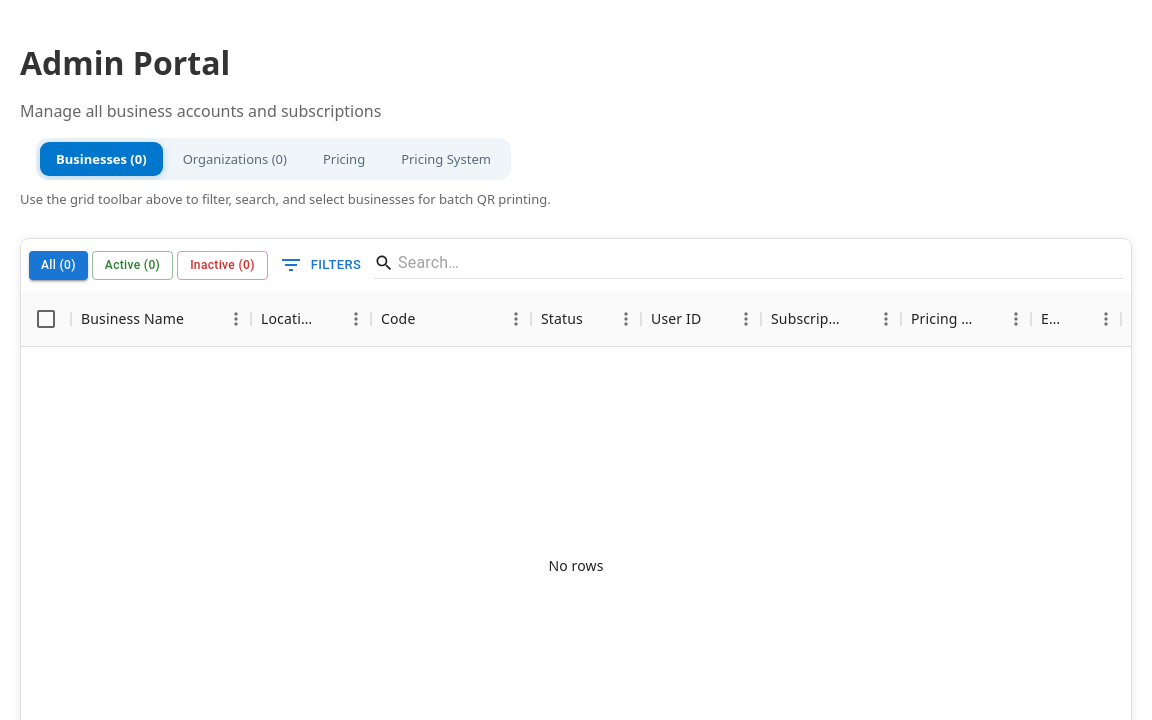
Test: AdminPortal — Pricing Console gating › shows the Pricing tab and renders the console for a super-admin
The image size is (1152, 720).
Check: the heading "Admin Portal" is shown, box [20,41,230,84]
Activate it and confirm the pricing console renders.
Click the button "Pricing" at (344, 159), box [307,142,381,176]
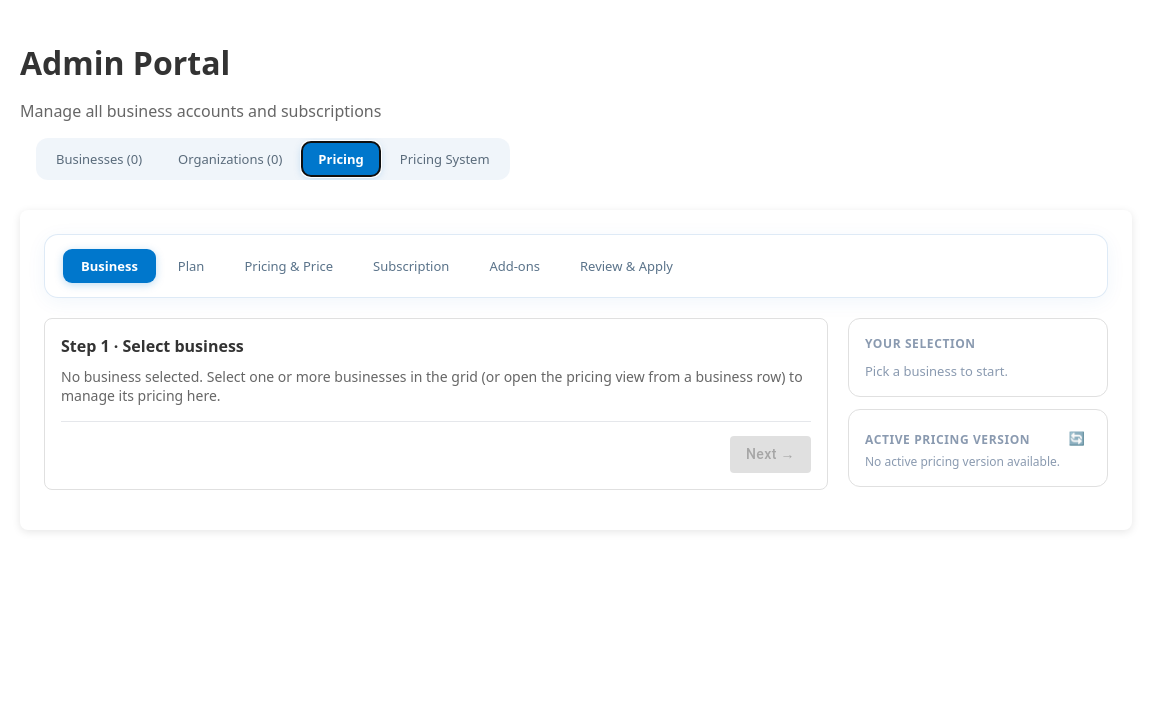
Check: the element with test id "pricing-console" is shown, box [36,226,1116,514]
Check: the element with test id "pricing-status-panel" is shown, box [848,409,1108,487]
